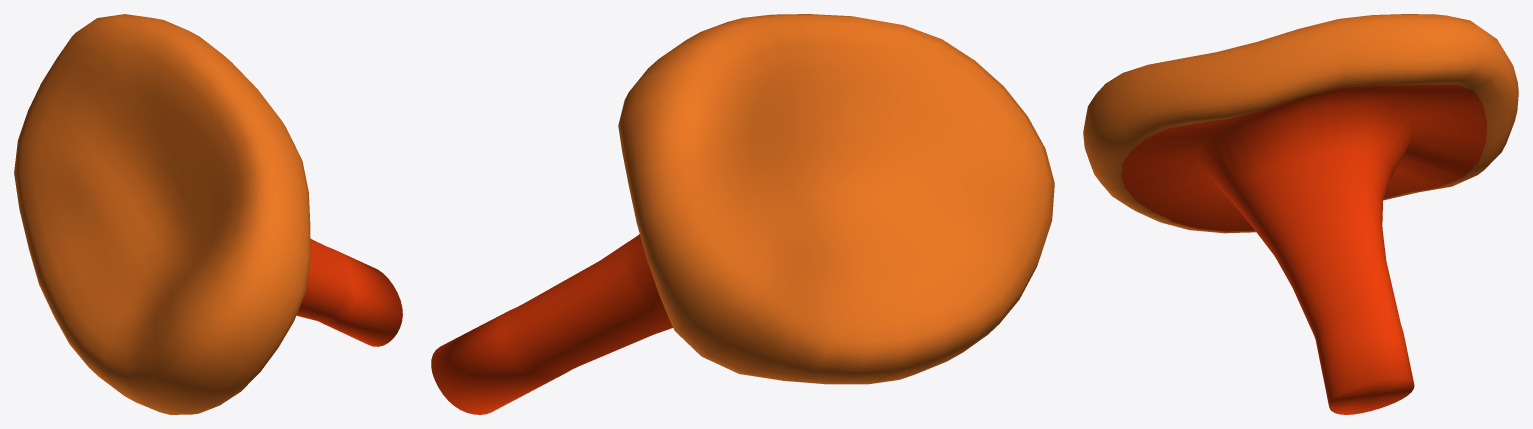
Rendered from CogumeloExplosao.fbx.
3 renders of one model, left to right at view 1: azimuth 30°, elevation 25°; view 2: azimuth 150°, elevation 25°; view 3: azimuth 270°, elevation 25°, orthographic. The views are drawn at different scales.
Visible parts, largest first — view 1: CogumeloExplosao; view 2: CogumeloExplosao; view 3: CogumeloExplosao.
Part boxes in pixels (left/top/right/bottom): CogumeloExplosao: left=14, top=14, right=402, bottom=414; CogumeloExplosao: left=431, top=14, right=1054, bottom=414; CogumeloExplosao: left=1083, top=14, right=1518, bottom=414.
Size of the model in its own units: 175 by 157 by 196.
